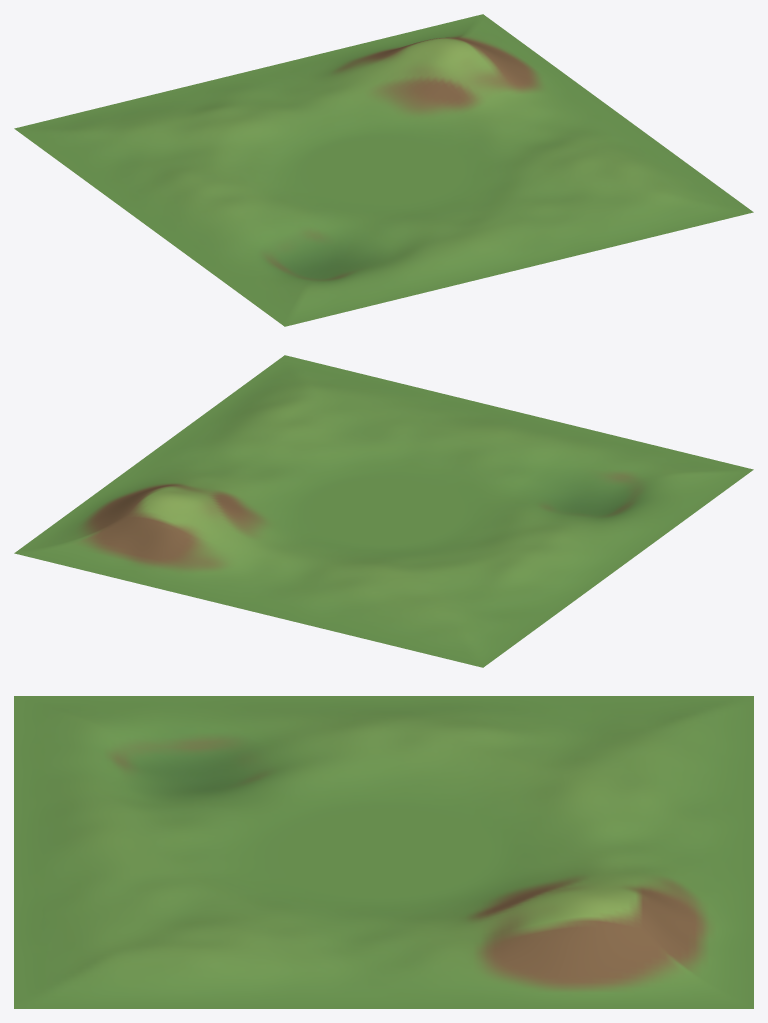
The model's file is terrain.glb.
The picture shows the model from 3 angles, top to bottom: view 1: azimuth 30°, elevation 25°; view 2: azimuth 150°, elevation 25°; view 3: azimuth 270°, elevation 25°; orthographic projection. The views are drawn at different scales.
Parts seen in each view (by area): view 1: terrain; view 2: terrain; view 3: terrain.
Part boxes in pixels (bbox=[...]): terrain: bbox=[14, 14, 753, 326]; terrain: bbox=[14, 355, 753, 667]; terrain: bbox=[14, 696, 753, 1008].
Size of what is drawn, in the model's own units: 100 by 8.9 by 100.
